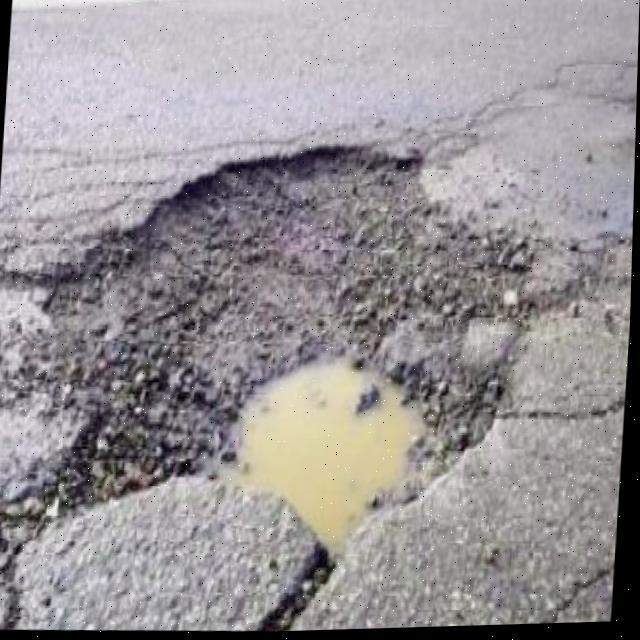pothole: (0, 121, 551, 640)
